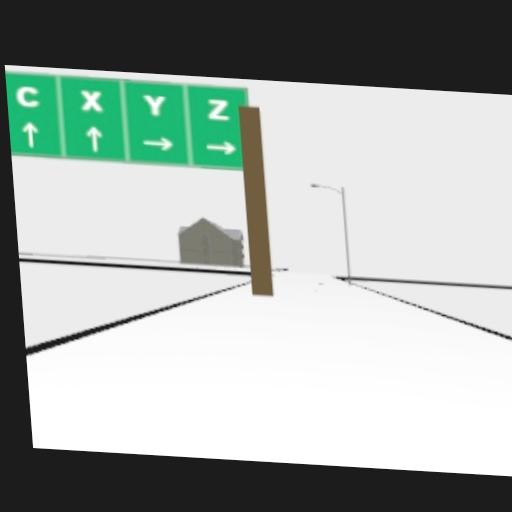C: (15, 84, 39, 106)
Right: (142, 135, 174, 151), (205, 139, 237, 154)
Straight: (21, 121, 39, 146), (85, 125, 103, 149)
X: (80, 88, 102, 110)
Y: (142, 93, 166, 115)
Z: (207, 96, 231, 119)
